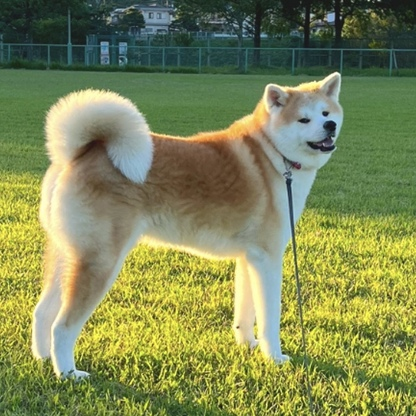akita: (25, 67, 349, 384)
